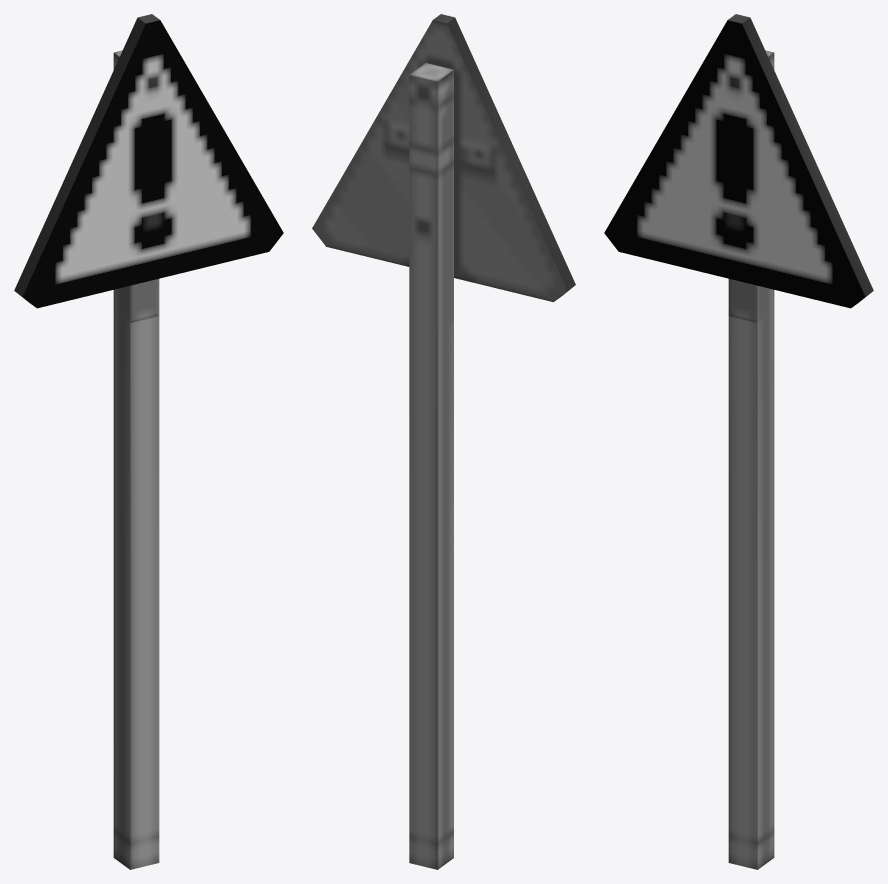
The model's file is Sign_Hazard.fbx.
3 views of the same model, side by side, from view 1: azimuth 30°, elevation 25°; view 2: azimuth 150°, elevation 25°; view 3: azimuth 330°, elevation 25° (orthographic). The views are drawn at different scales.
Visible parts, largest first — view 1: Sign_Hazard; view 2: Sign_Hazard; view 3: Sign_Hazard.
Part boxes in pixels (left/top/right/bottom): Sign_Hazard: left=14, top=14, right=283, bottom=869; Sign_Hazard: left=312, top=14, right=575, bottom=869; Sign_Hazard: left=604, top=14, right=873, bottom=869.
Size of the model in its own units: 9 by 28 by 1.5.
